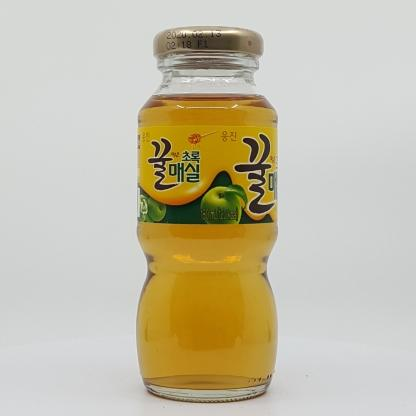-------180ML: (136, 26, 278, 402)
